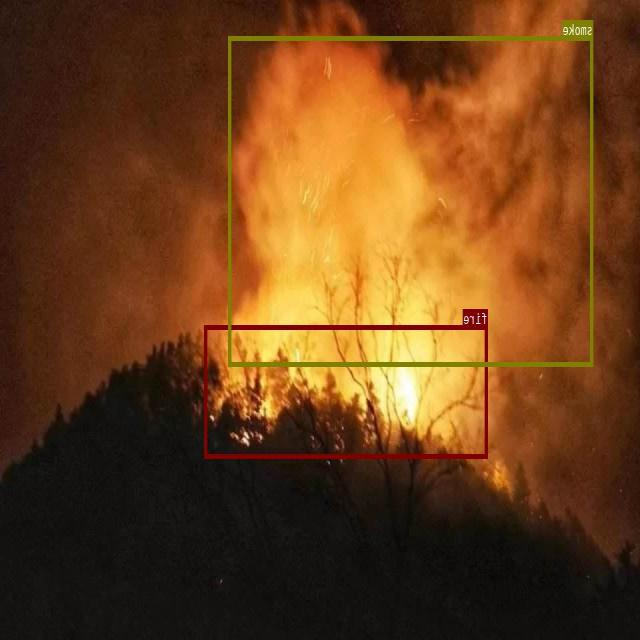fire: (204, 325, 488, 458)
smoke: (229, 35, 593, 366)
